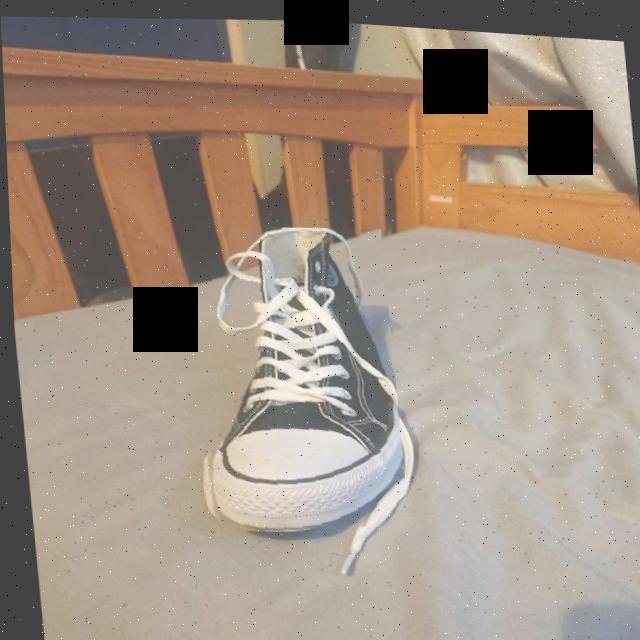shoe: (174, 213, 407, 541)
